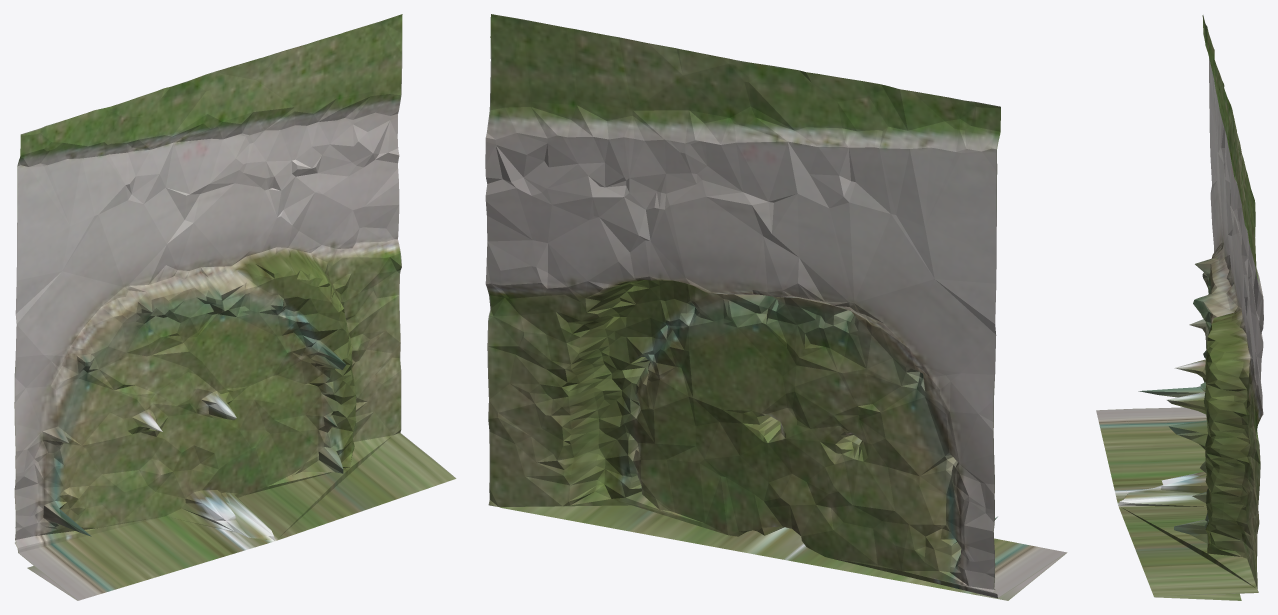
Rendered from map_0_60.obj.
3 views of the same model, side by side, from view 1: azimuth 30°, elevation 25°; view 2: azimuth 150°, elevation 25°; view 3: azimuth 270°, elevation 25° (orthographic). The views are drawn at different scales.
Visible parts, largest first — view 1: grp1; view 2: grp1; view 3: grp1.
Part boxes in pixels (box(x1,y1,x2,y2)): grp1: box(14, 14, 456, 600); grp1: box(485, 14, 1067, 600); grp1: box(1096, 15, 1263, 600).
Bounding box in the file's own units: 10 × 10 × 3.8.
Materials: 1 (1 with a texture image).
